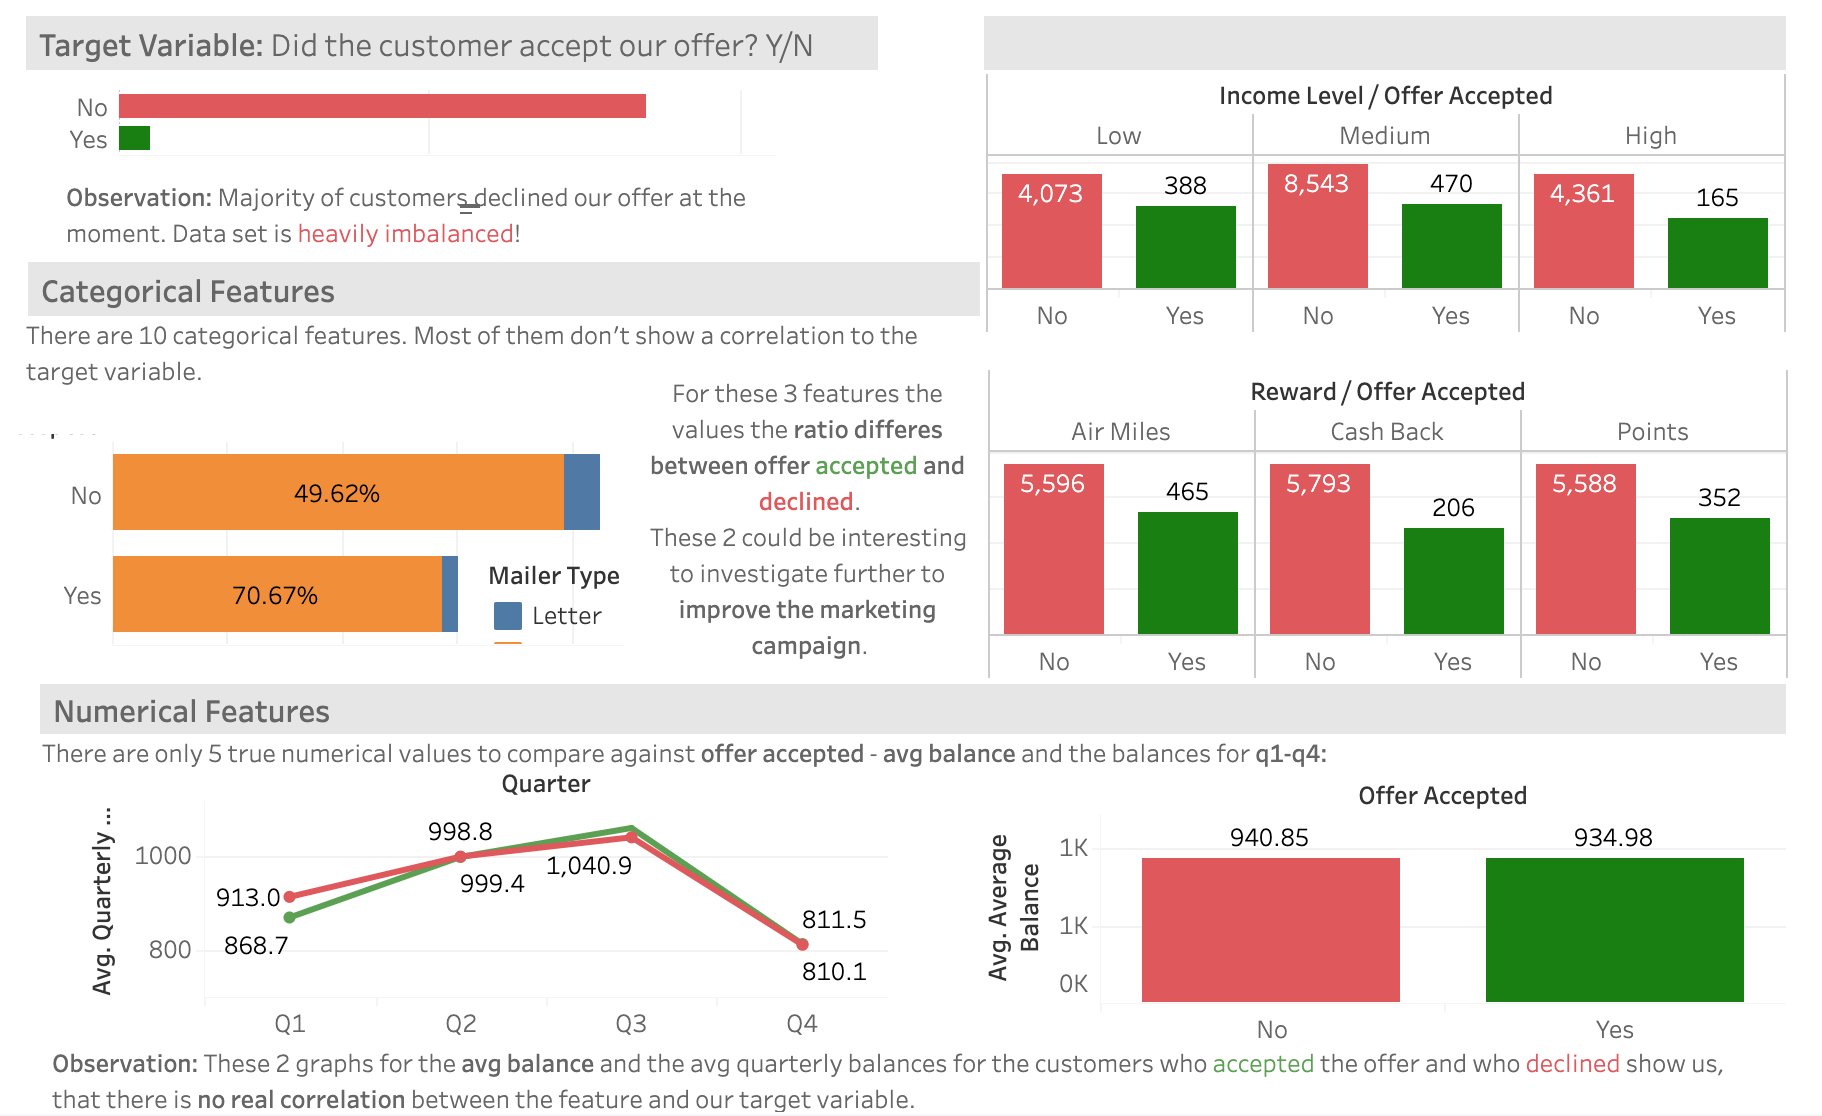

This screenshot's page, from the dashboard's own definition file:
{"tool":"tableau","page":{"name":"Task 9 - Dashboard 2","canvas":[1000,1000],"units":"permille","ordinal":1},"visuals":[{"type":"worksheet","box":[57,24.9,346.6,48.5]},{"type":"worksheet","box":[446.7,24.9,325.5,48.5]},{"type":"worksheet","title":"Task3 (DB)","mark":"Automatic","rows":["Offer Accepted"],"cols":["creditcardmarketing-bbm_7423971F8F104226967FE0CD2F8F73A4"],"box":[29.3,64.2,332.8,150.7]},{"type":"worksheet","title":"Task 7 - J deep dive","mark":"Bar","rows":["creditcardmarketing-bbm_7423971F8F104226967FE0CD2F8F73A4"],"cols":["Income Level","Offer Accepted"],"box":[447.5,76,324.7,232]},{"type":"worksheet","box":[73.2,167.8,288.9,66.8]},{"type":"worksheet","box":[57.8,243.8,387.3,48.5]},{"type":"worksheet","box":[57,292.3,391.4,66.8]},{"type":"worksheet","box":[310.8,327.7,130.2,287]},{"type":"worksheet","title":"Task 7 - I deep dive (DB)","mark":"Bar","rows":["creditcardmarketing-bbm_7423971F8F104226967FE0CD2F8F73A4"],"cols":["Reward","Offer Accepted"],"box":[448.3,339.4,324.7,276.5]},{"type":"worksheet","box":[12.2,360.4,98.5,36.7]},{"type":"worksheet","title":"Task 7B - deep dive (DB1)","mark":"Automatic","rows":["Offer Accepted"],"cols":["creditcardmarketing-bbm_7423971F8F104226967FE0CD2F8F73A4"],"box":[10.6,368.3,289.7,268.7]},{"type":"worksheet","title":"Task 7B - deep dive (DB1)","mark":"Automatic","rows":["Offer Accepted"],"cols":["creditcardmarketing-bbm_7423971F8F104226967FE0CD2F8F73A4"],"param":"[federated.09p3p5r11pkwdx1b5s76k0kxbmq4].[none:Mailer Type:nk]","box":[244.9,507.2,70,76]},{"type":"worksheet","box":[62.6,618.6,709.5,45.9]},{"type":"worksheet","box":[63.5,660.6,698.1,39.3]},{"type":"worksheet","title":"Task 10 - timeseries A (DB)","mark":"Line","rows":["Pivot Field Values"],"cols":["Pivot Field Names - Split 1"],"box":[74.9,689.4,332.8,246.4]},{"type":"worksheet","title":"Task 11 - Avg B Y/N (DB)","mark":"Bar","rows":["Average Balance"],"cols":["Offer Accepted"],"box":[439.4,699.9,332.8,237.2]}]}

Visuals, with their boxes on the dashboard's canvas, which has no fixed pixel size, in thousandths of its width and height (x1, y1, x2, y2). These are canvas units, not pixel positions in the 1822x1116 screenshot, which may show the page scaled, cropped or inside an application window:
worksheet: 57, 25, 404, 73
worksheet: 447, 25, 772, 73
"Task3 (DB)" worksheet: 29, 64, 362, 215
"Task 7 - J deep dive" worksheet (Bar marks): 448, 76, 772, 308
worksheet: 73, 168, 362, 235
worksheet: 58, 244, 445, 292
worksheet: 57, 292, 448, 359
worksheet: 311, 328, 441, 615
"Task 7 - I deep dive (DB)" worksheet (Bar marks): 448, 339, 773, 616
worksheet: 12, 360, 111, 397
"Task 7B - deep dive (DB1)" worksheet: 11, 368, 300, 637
"Task 7B - deep dive (DB1)" worksheet: 245, 507, 315, 583
worksheet: 63, 619, 772, 664
worksheet: 64, 661, 762, 700
"Task 10 - timeseries A (DB)" worksheet (Line marks): 75, 689, 408, 936
"Task 11 - Avg B Y/N (DB)" worksheet (Bar marks): 439, 700, 772, 937
